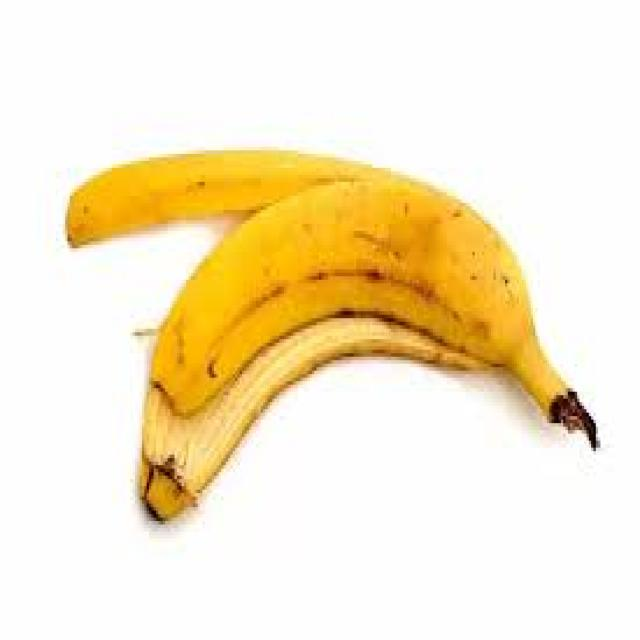Organik: (59, 108, 613, 532)
